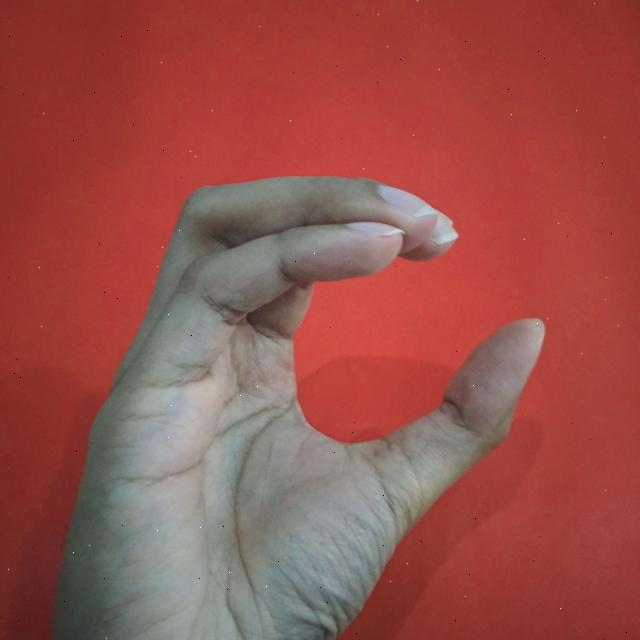C: (52, 176, 554, 640)
